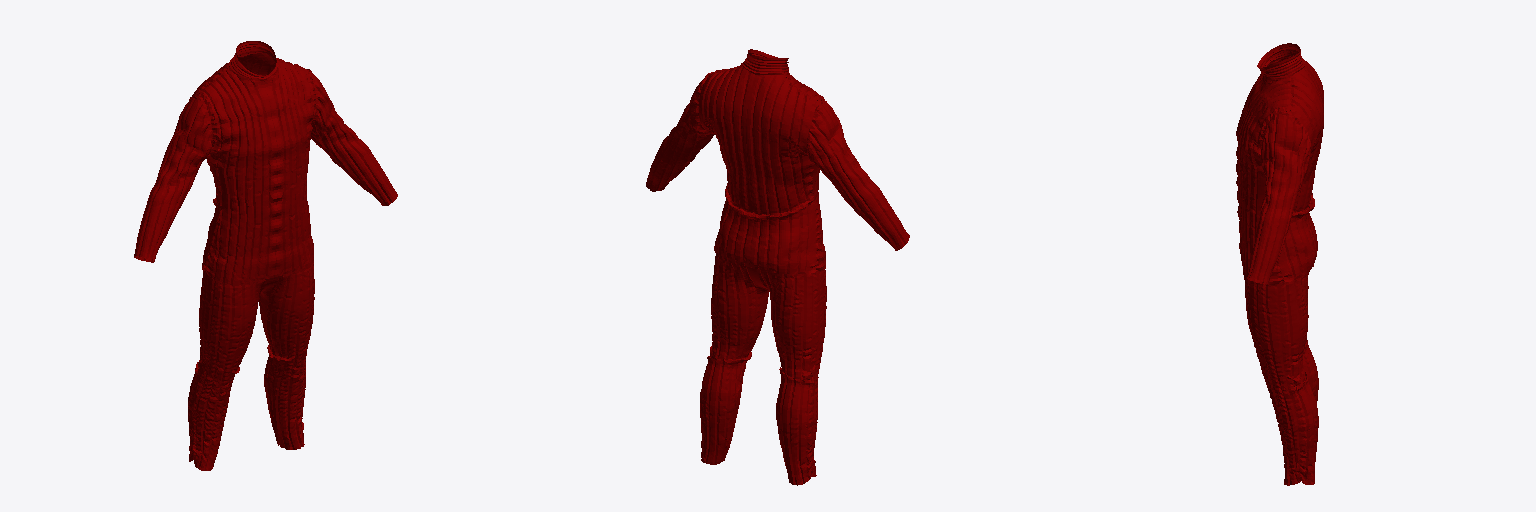
The model's file is podlatnik.obj.
3 renders of one model, left to right at view 1: azimuth 30°, elevation 25°; view 2: azimuth 150°, elevation 25°; view 3: azimuth 270°, elevation 25°, orthographic.
Visible parts, largest first — view 1: Pattern2D_4766; view 2: Pattern2D_4766; view 3: Pattern2D_4766.
Boxes of the visible parts, x1,y1,x2,y2 form: Pattern2D_4766: [134, 41, 397, 470]; Pattern2D_4766: [646, 49, 909, 485]; Pattern2D_4766: [1236, 43, 1323, 485].
Bounding box in the file's own units: 4.98 × 7.56 × 1.47.